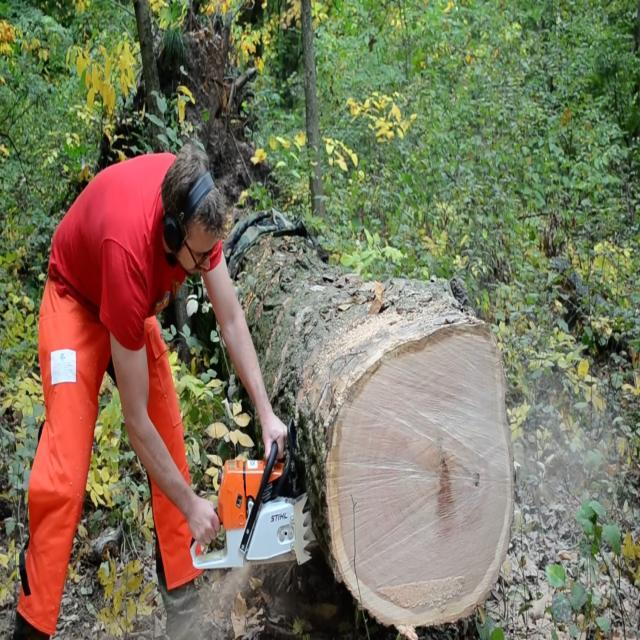Chainsaw: (168, 450, 332, 578)
